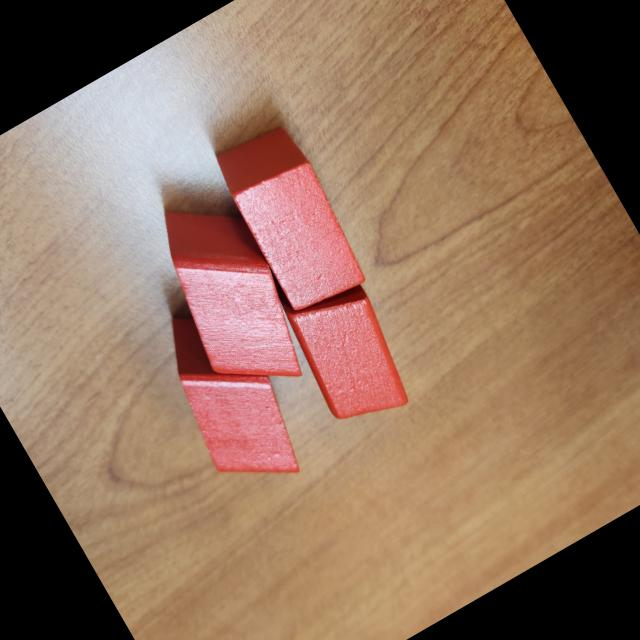red: (133, 180, 325, 412), (138, 288, 318, 510), (202, 113, 376, 322), (278, 272, 427, 440)
